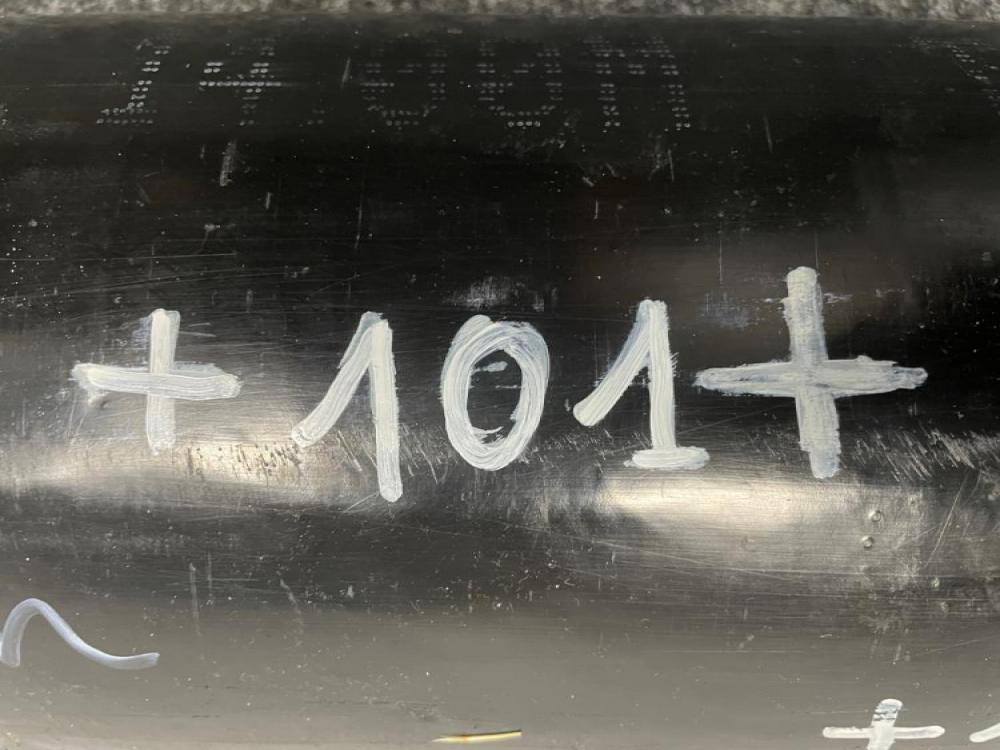+: (696, 269, 930, 478), (70, 307, 236, 450), (823, 699, 947, 749)
0: (439, 314, 551, 474)
1: (573, 298, 712, 476), (292, 312, 403, 502)
